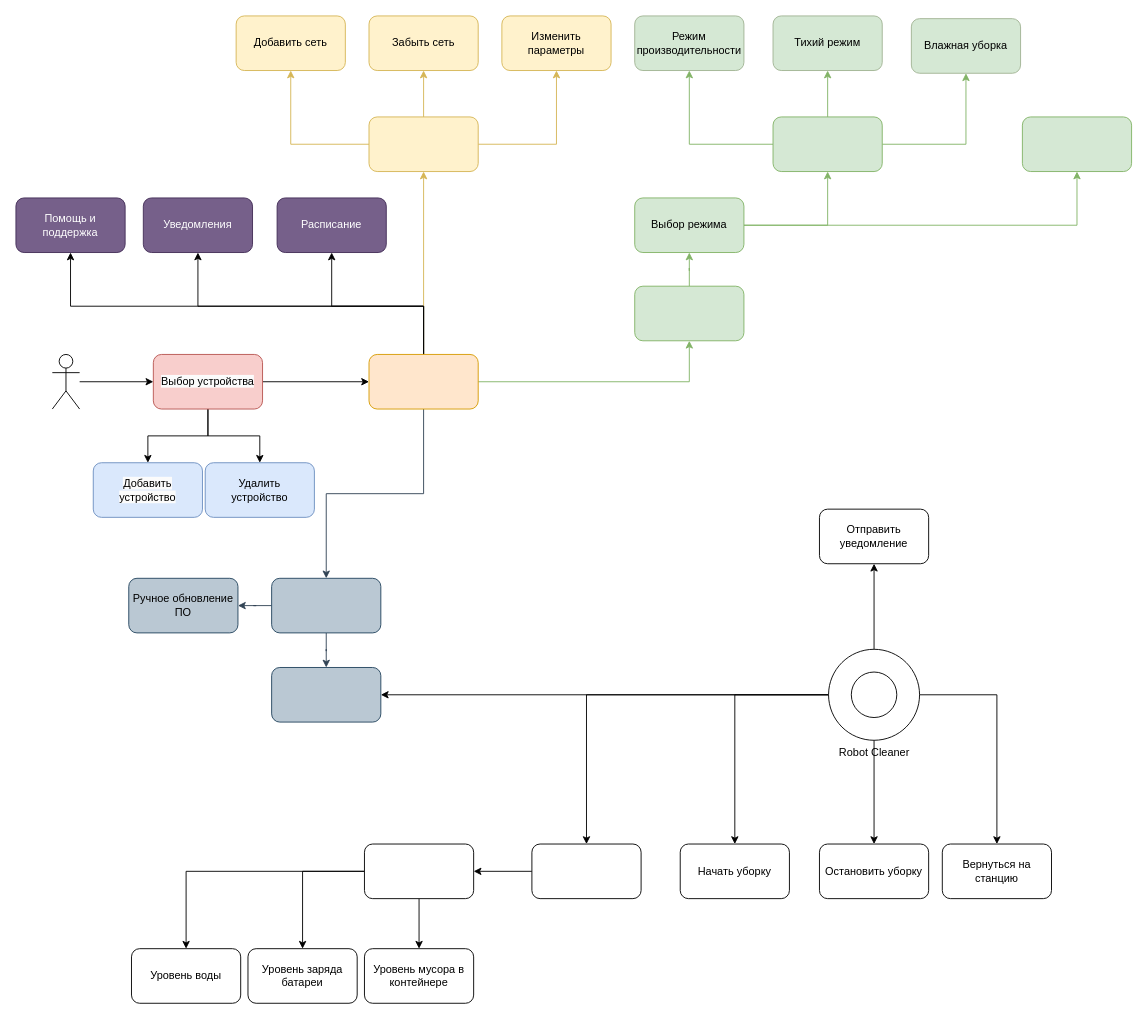
Image size: 1148x1019. Some labels were removed from this diagram. The shapes that lost their labels are listed below. From the top down, each one's box as (x1, y1, x2, y2) in pixels, then its label:
(368, 116, 478, 172): Настройки сети
(772, 116, 882, 172): Автоматический режим
(1021, 116, 1132, 172): Ручное упраление
(634, 285, 744, 341): Управление
(51, 354, 80, 409): User
(368, 354, 478, 409): Настройки
(271, 577, 381, 633): Обновление ПО
(271, 667, 381, 722): Авто обновление ПО
(364, 843, 474, 899): Обслуживание
(531, 843, 641, 899): Диагностика
